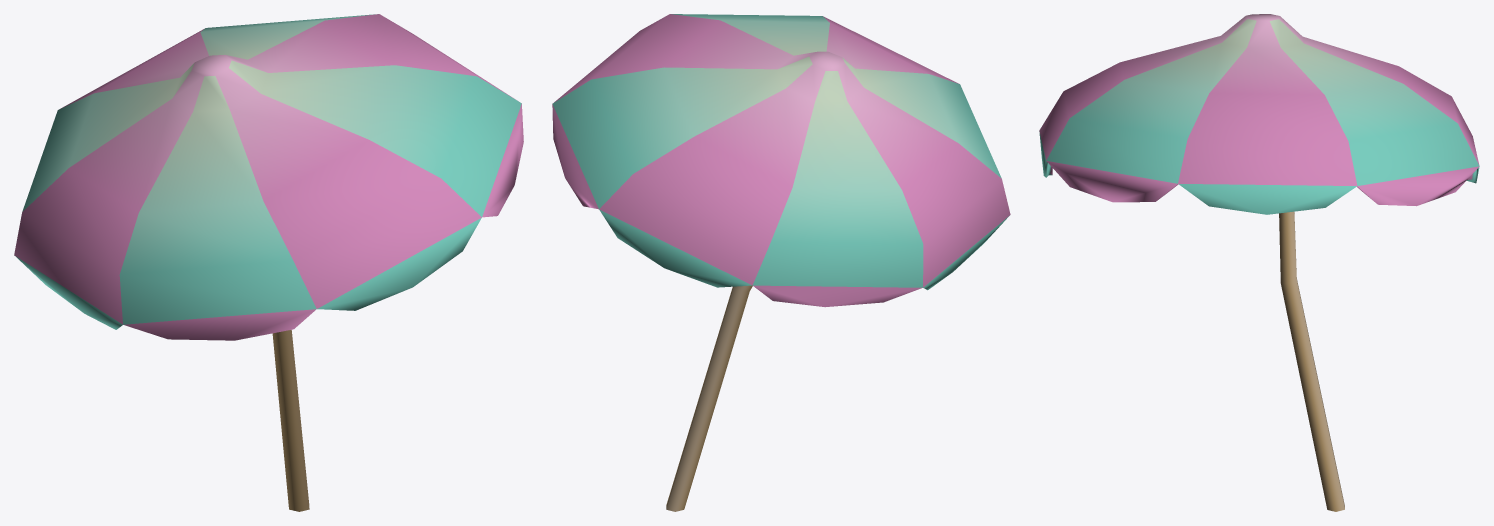
The model's file is BlizzardBeachUmbrellaPink.glb.
3 renders of one model, left to right at view 1: azimuth 30°, elevation 25°; view 2: azimuth 150°, elevation 25°; view 3: azimuth 270°, elevation 25°, orthographic. The views are drawn at different scales.
Parts seen in each view (by area): view 1: BlizzardBeachUmbrellaPink; view 2: BlizzardBeachUmbrellaPink; view 3: BlizzardBeachUmbrellaPink.
Boxes of the visible parts, bbox=[...] form: BlizzardBeachUmbrellaPink: bbox=[14, 14, 523, 511]; BlizzardBeachUmbrellaPink: bbox=[552, 14, 1010, 511]; BlizzardBeachUmbrellaPink: bbox=[1039, 14, 1479, 511].
Size of the model in its own units: 0.9125 by 1.05 by 0.9501.
